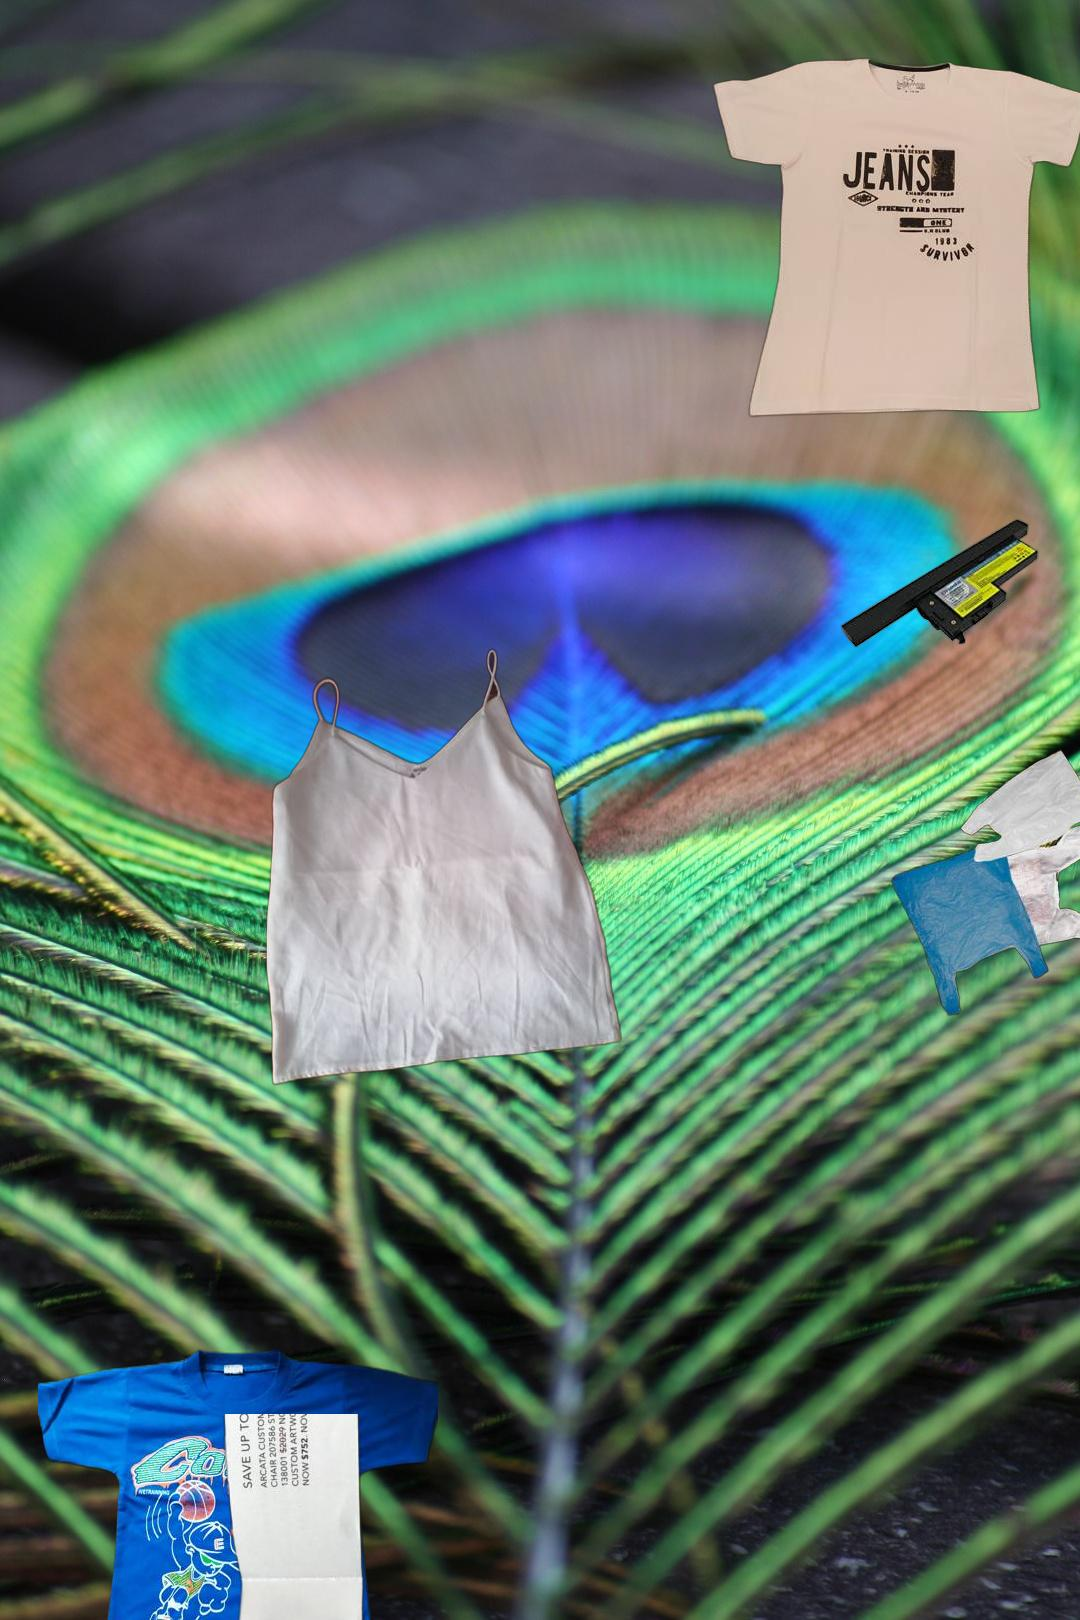battery: (840, 516, 1039, 650)
biological: (1045, 918, 1080, 1039)
clothes: (262, 644, 624, 1090), (709, 55, 1080, 419), (39, 1345, 438, 1620)
paper: (66, 1414, 369, 1620)
plastic-bag: (888, 749, 1080, 1019)
